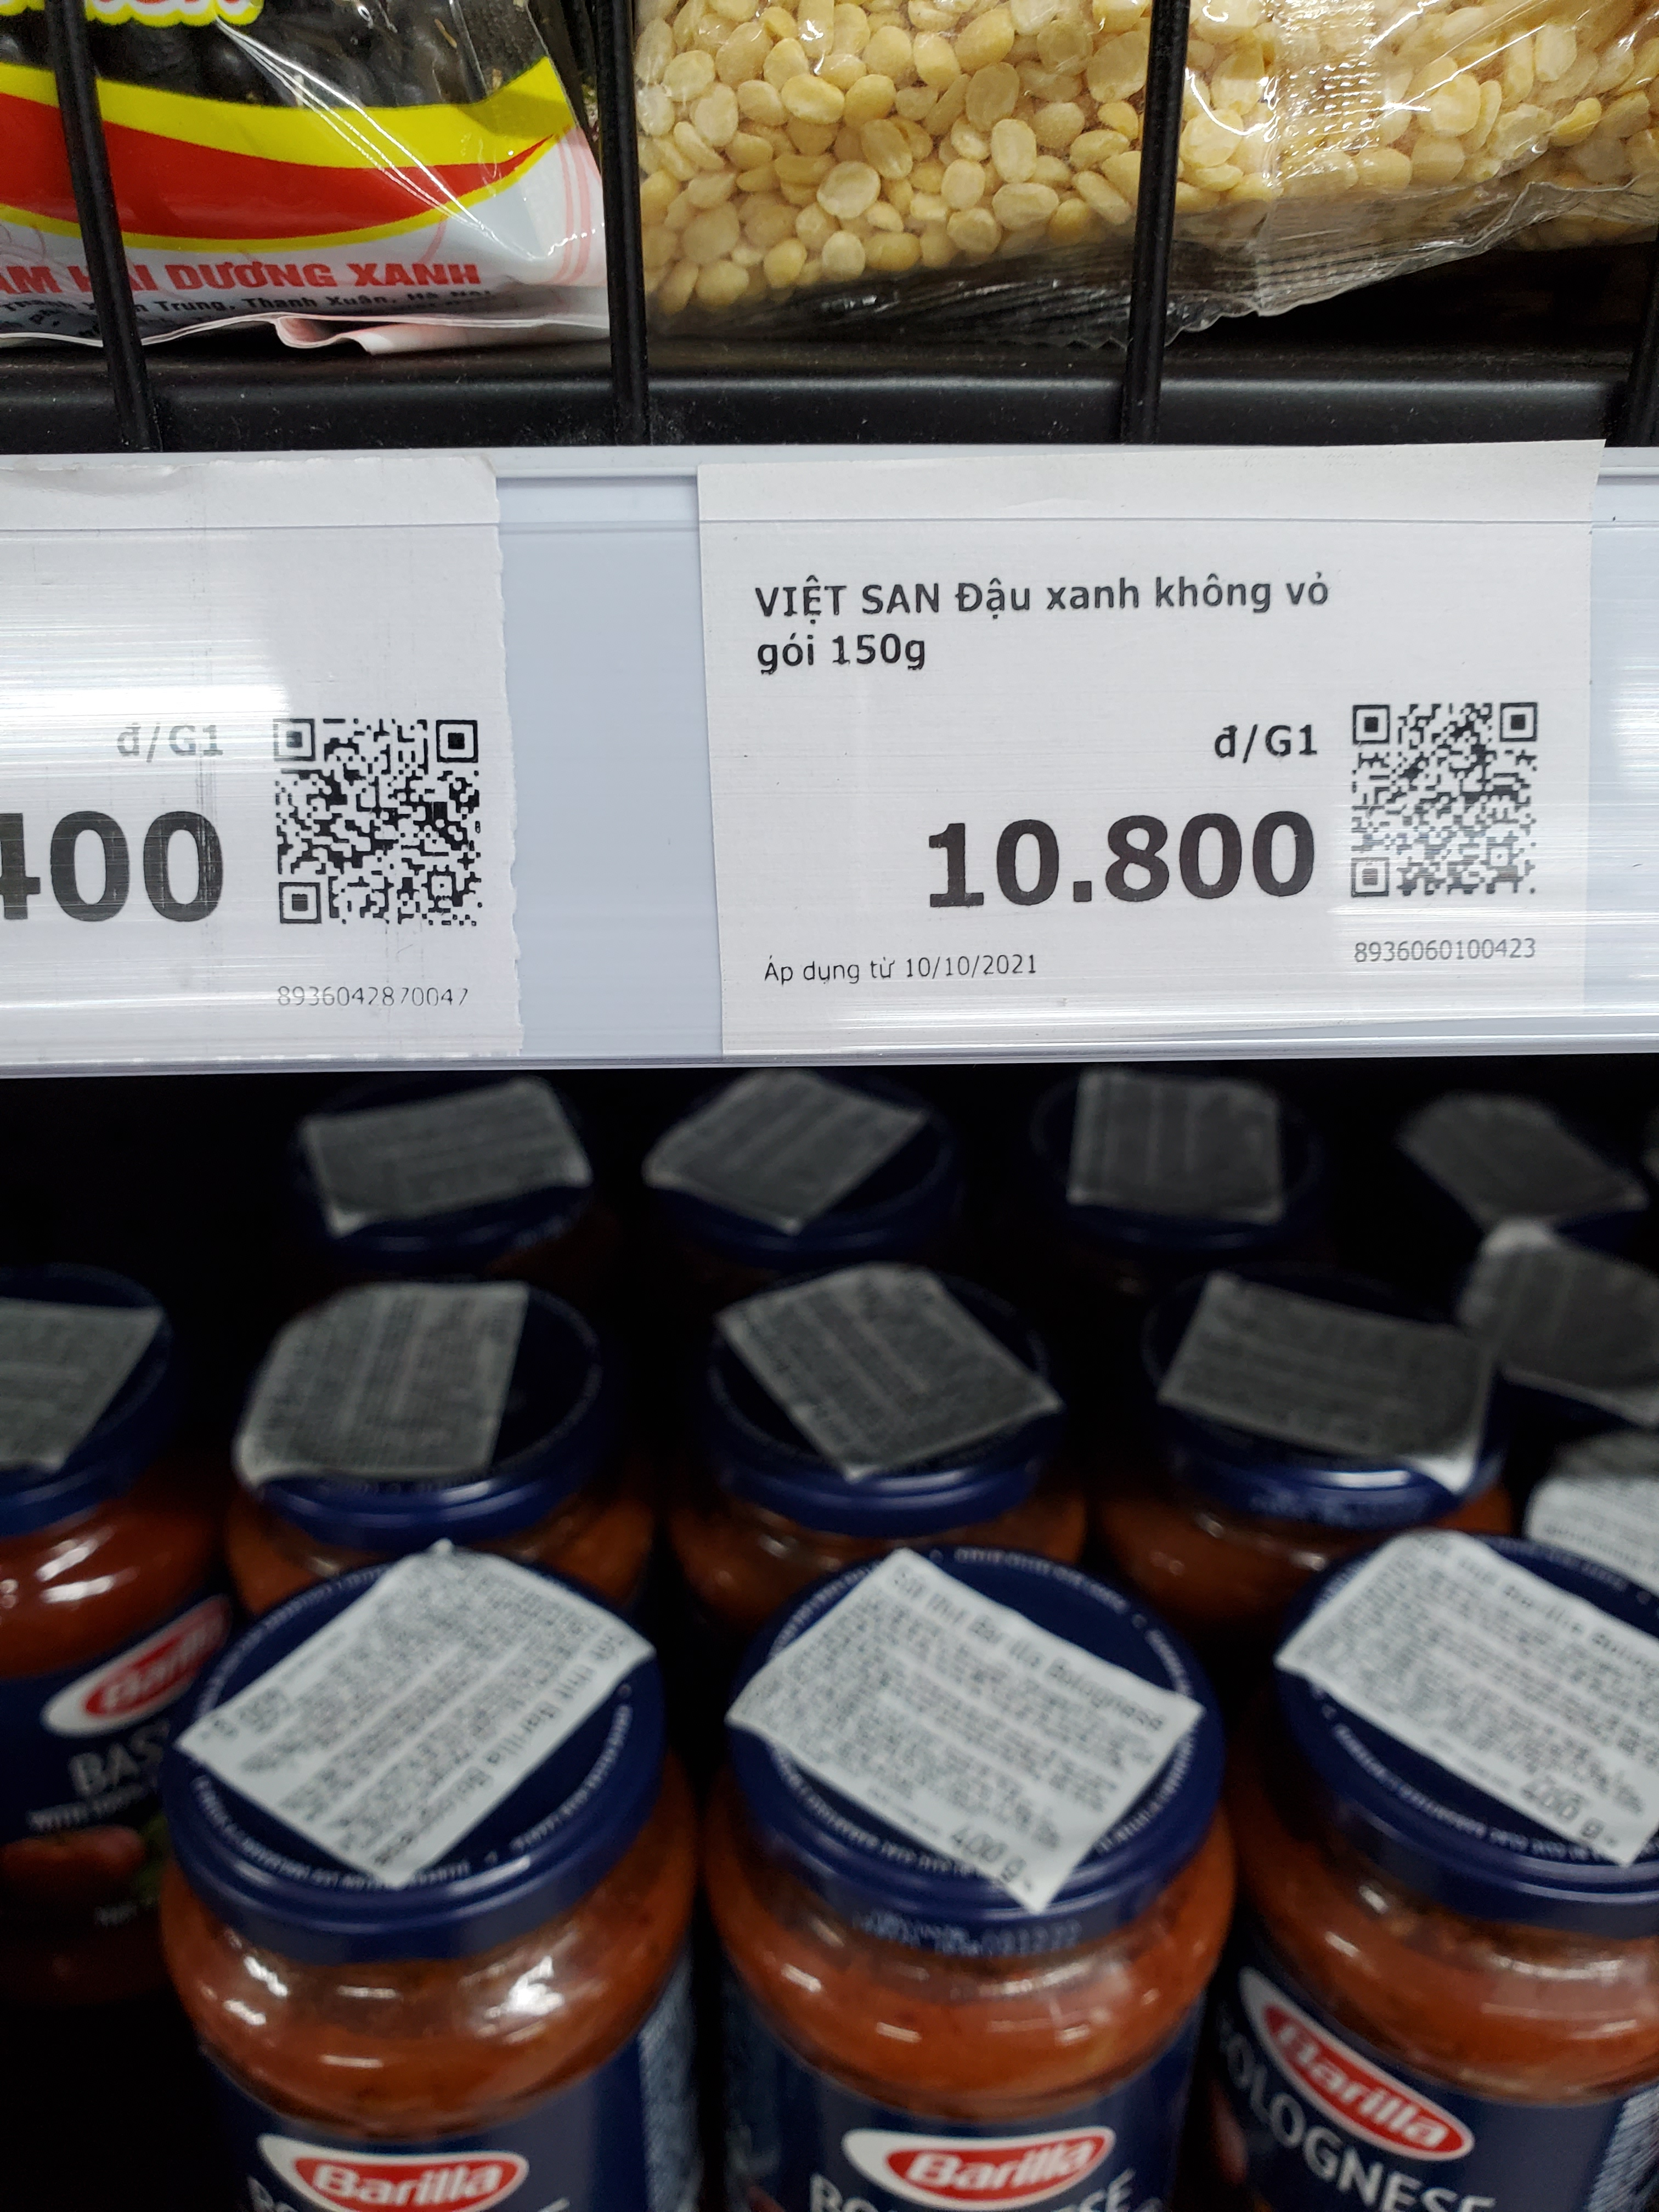qr code: (260, 711, 491, 942), (1333, 690, 1554, 911)
